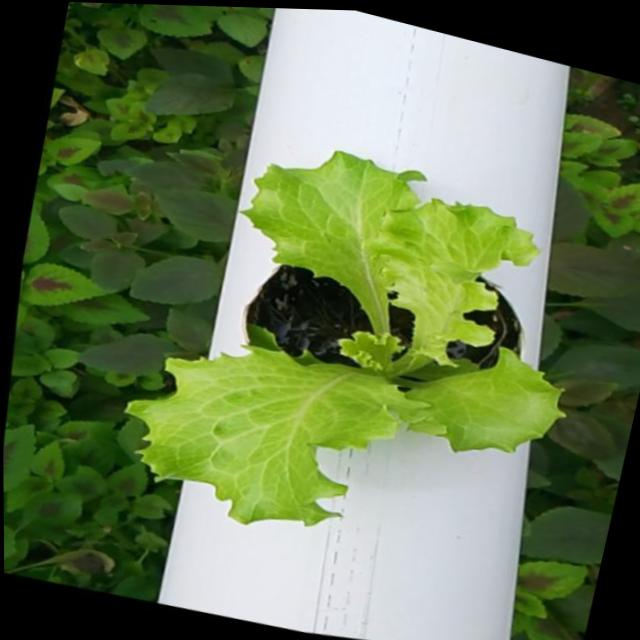Baby: (142, 152, 580, 526)
